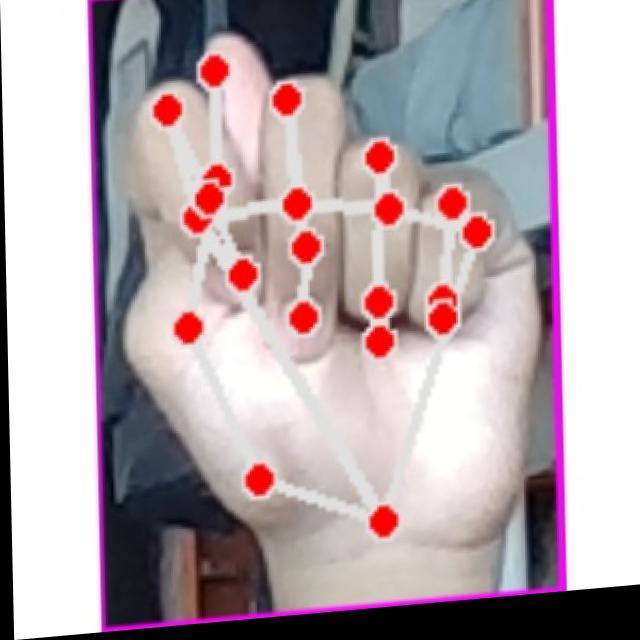T: (102, 6, 544, 583)
